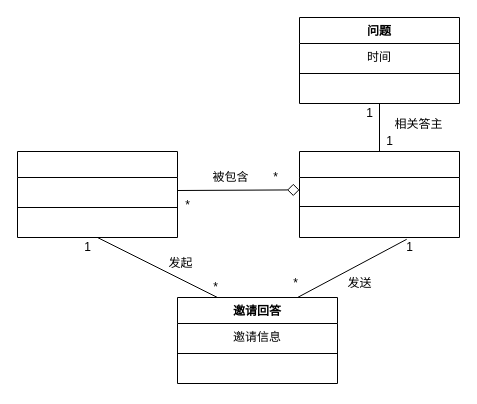
Image size: 477x404. Some labels were removed from this diagram. The shapes that lost their labels are listed below. From the top down, each one's centre as x and y in pixels, then its label:
the point at 97,194: 用户
the point at 379,194: 专家列表
